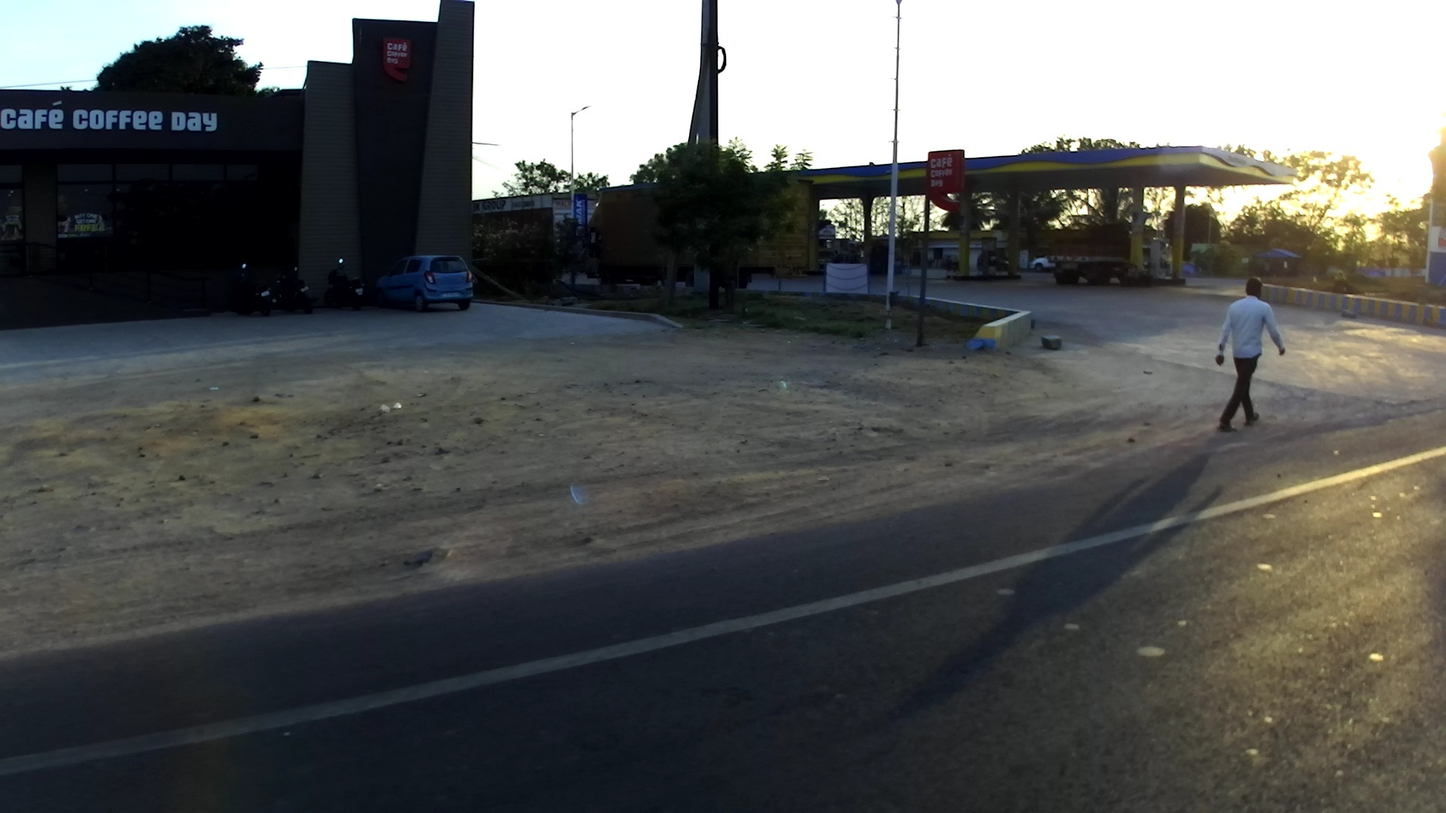car: (372, 250, 475, 314), (1029, 253, 1055, 273)
motorcycle: (269, 260, 319, 319), (325, 257, 368, 311), (236, 260, 274, 315)
person: (1213, 274, 1286, 434)
truck: (1048, 221, 1142, 288)
